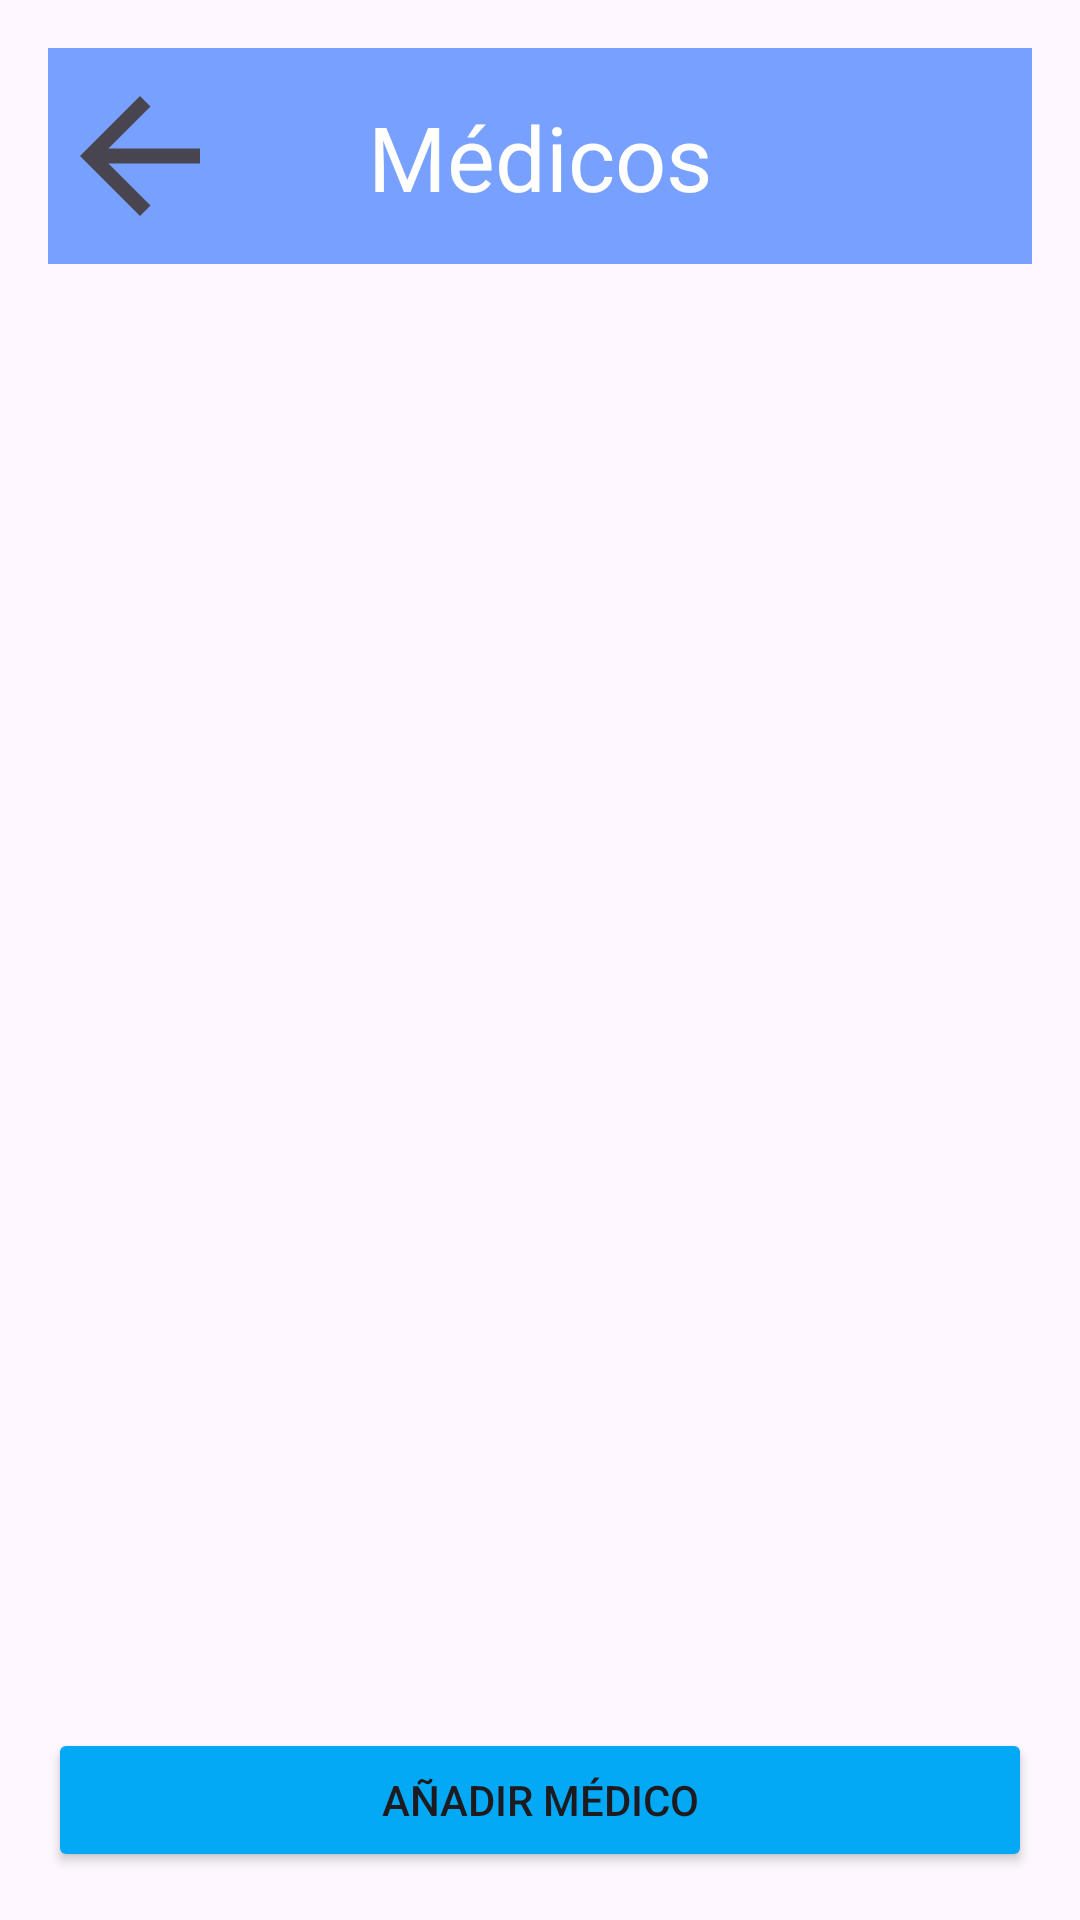

Icon bounding boxes for this 1080*1920 phone screenshot, format BBox(x1, y1, x2, y2):
Volver: BBox(80, 96, 200, 216)
